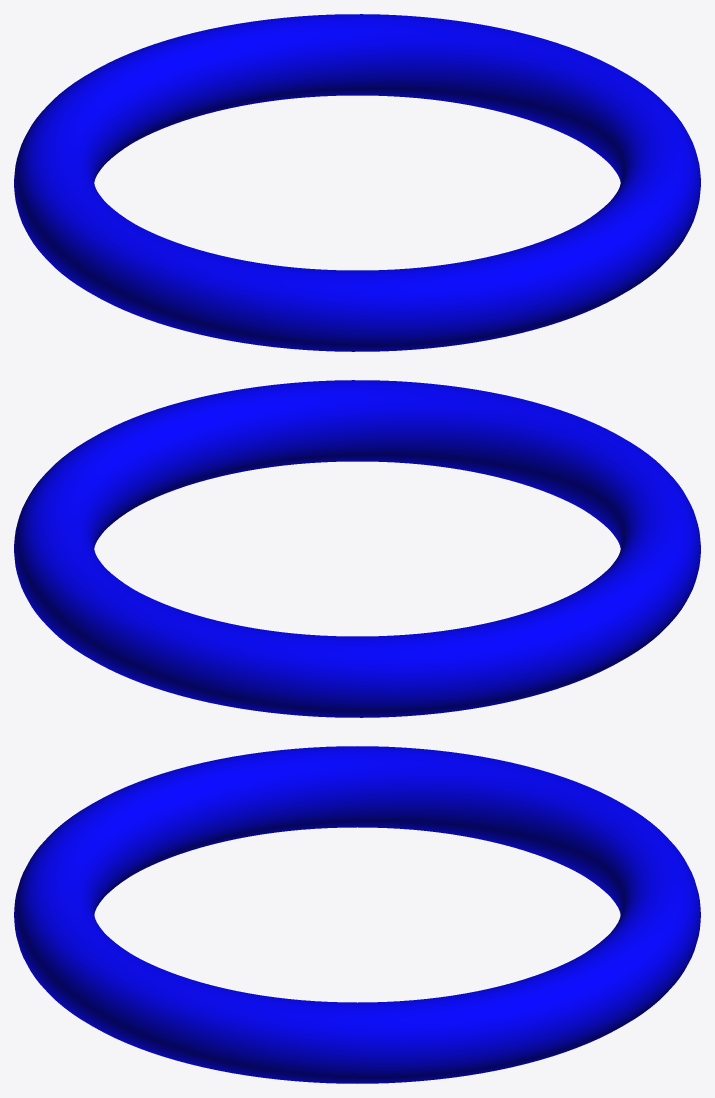
File: ring.fbx
3 views of the same model, one above another, from view 1: azimuth 30°, elevation 25°; view 2: azimuth 150°, elevation 25°; view 3: azimuth 270°, elevation 25° (orthographic).
Parts seen in each view (by area): view 1: Circle; view 2: Circle; view 3: Circle.
Boxes of the visible parts, x1,y1,x2,y2 form: Circle: [14, 14, 700, 351]; Circle: [14, 380, 700, 717]; Circle: [14, 746, 700, 1083].
Size of the model in its own units: 193 by 22.54 by 193.
